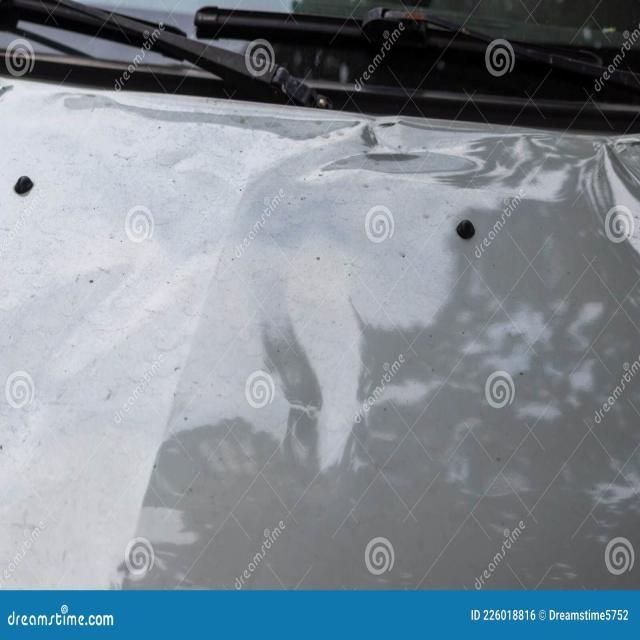dent: (60, 90, 640, 242)
